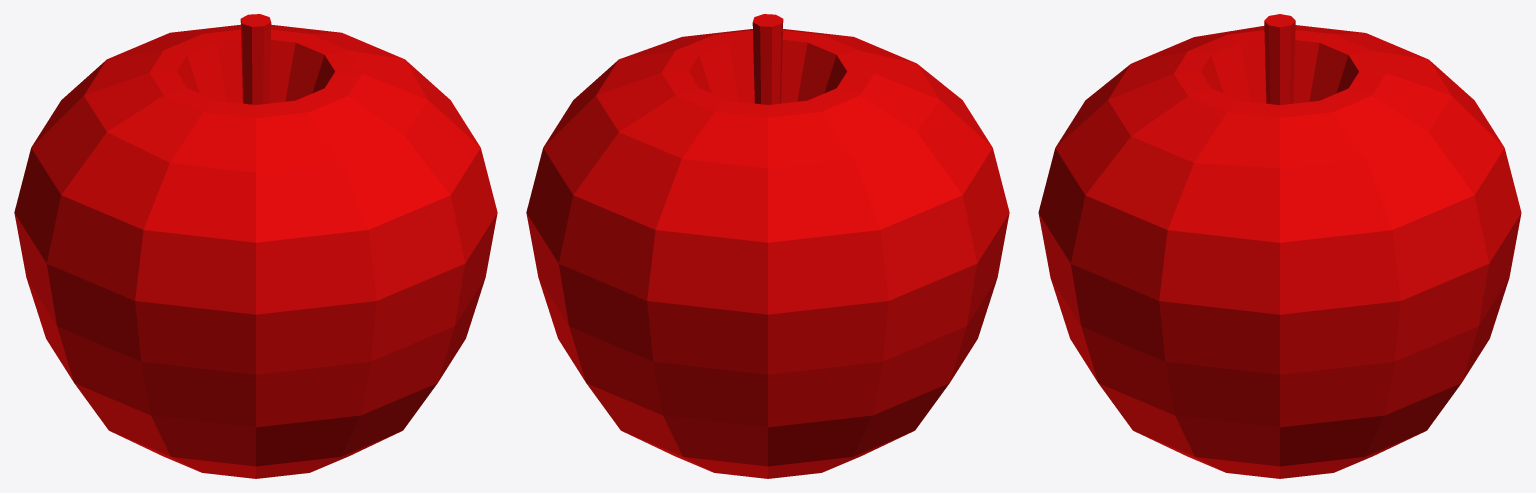
Rendered from Apple_Fail.fbx.
3 views of the same model, side by side, from view 1: azimuth 30°, elevation 25°; view 2: azimuth 150°, elevation 25°; view 3: azimuth 270°, elevation 25° (orthographic).
Visible parts, largest first — view 1: Apple_Fail; view 2: Apple_Fail; view 3: Apple_Fail.
Part boxes in pixels (left/top/right/bottom): Apple_Fail: left=14, top=14, right=497, bottom=478; Apple_Fail: left=526, top=14, right=1009, bottom=478; Apple_Fail: left=1038, top=14, right=1521, bottom=478.
Bounding box in the file's own units: 9.24 × 8.84 × 9.24.
